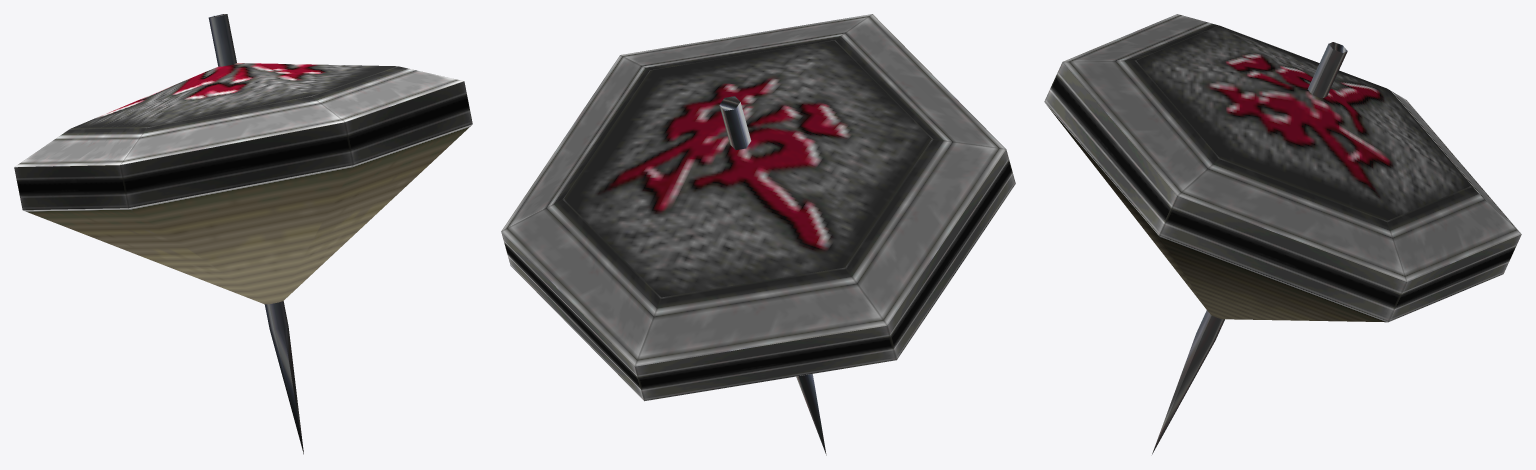
The model's file is STATIC.ICO.obj.
3 views of the same model, side by side, from view 1: azimuth 30°, elevation 25°; view 2: azimuth 150°, elevation 25°; view 3: azimuth 270°, elevation 25° (orthographic). The views are drawn at different scales.
Size of the model in its own units: 2.33 by 2.46 by 2.58.
1 material, 1 textured.
